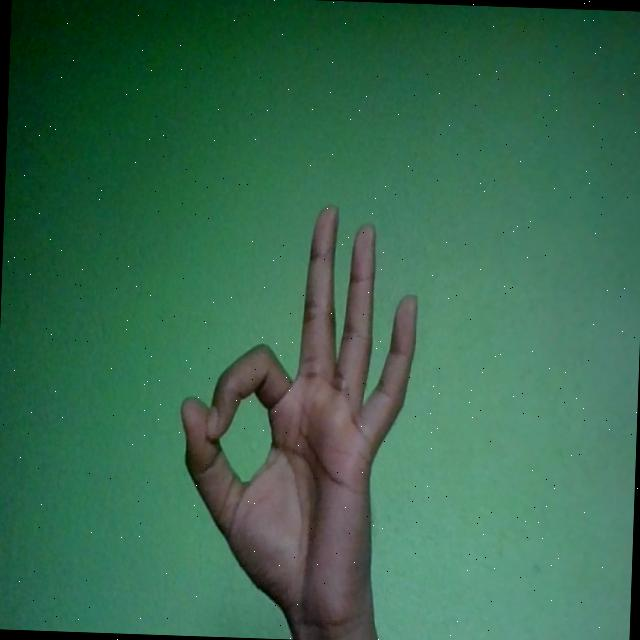Rock On: (170, 196, 422, 634)
